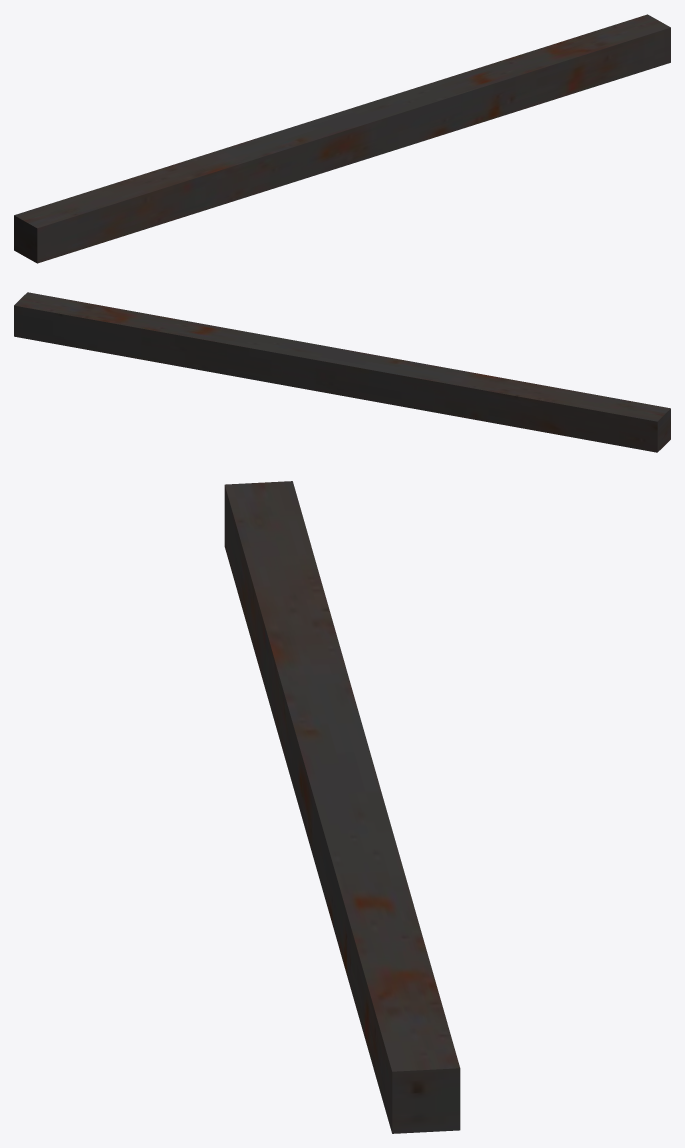
Rendered from frame__rail_1.glb.
3 views of the same model, one above another, from view 1: azimuth 30°, elevation 25°; view 2: azimuth 150°, elevation 25°; view 3: azimuth 270°, elevation 25° (orthographic). The views are drawn at different scales.
Parts seen in each view (by area): view 1: geometry_0; view 2: geometry_0; view 3: geometry_0.
Boxes of the visible parts, x1,y1,x2,y2 form: geometry_0: [14, 14, 670, 263]; geometry_0: [14, 292, 670, 452]; geometry_0: [224, 481, 460, 1133].
Size of the model in its own units: 1.02 by 0.05 by 0.1717.
Materials: 1 (1 with a texture image).
